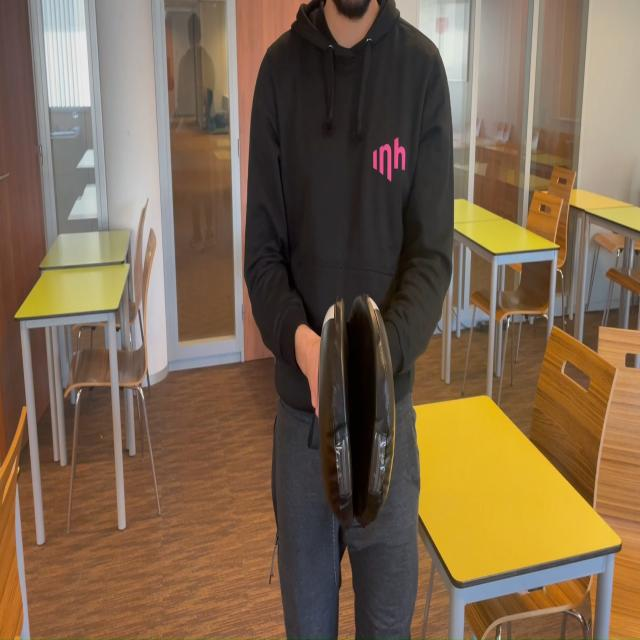paddle: (323, 302, 393, 526)
